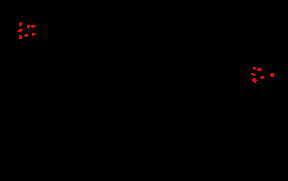Target: (252, 78, 257, 83), (257, 67, 261, 71), (270, 73, 274, 77), (18, 29, 23, 32), (19, 22, 22, 26), (31, 25, 35, 28), (24, 34, 28, 37), (19, 35, 22, 39), (251, 73, 255, 76), (260, 76, 264, 79), (27, 25, 30, 28), (32, 33, 35, 36), (253, 67, 256, 70)
